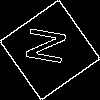N: (25, 25, 76, 68)
